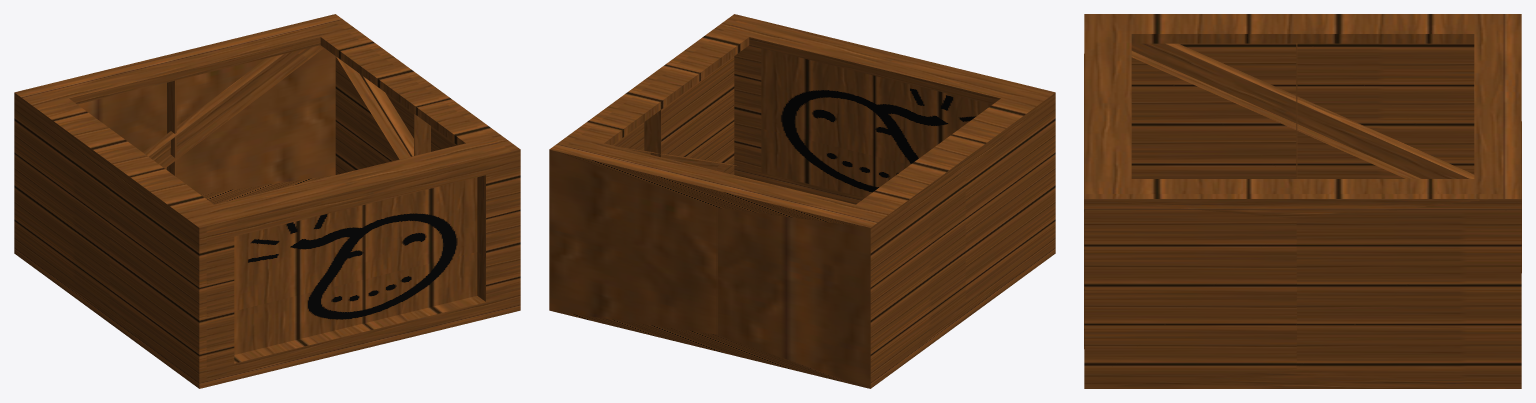
Rendered from jagaimo box.FBX.
The picture shows the model from 3 angles, left to right: view 1: azimuth 30°, elevation 25°; view 2: azimuth 150°, elevation 25°; view 3: azimuth 270°, elevation 25°; orthographic projection. The views are drawn at different scales.
Parts seen in each view (by area): view 1: wooden_box002; view 2: wooden_box002; view 3: wooden_box002.
Boxes of the visible parts, x1,y1,x2,y2 form: wooden_box002: (14, 14, 520, 388); wooden_box002: (549, 14, 1055, 388); wooden_box002: (1084, 14, 1521, 388).
Size of the model in its own units: 7.18 by 3.44 by 7.18.
Materials: 1 (1 with a texture image).
